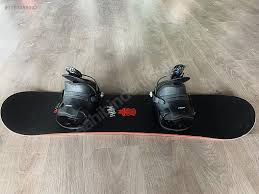snowboard: (1, 89, 256, 140)
